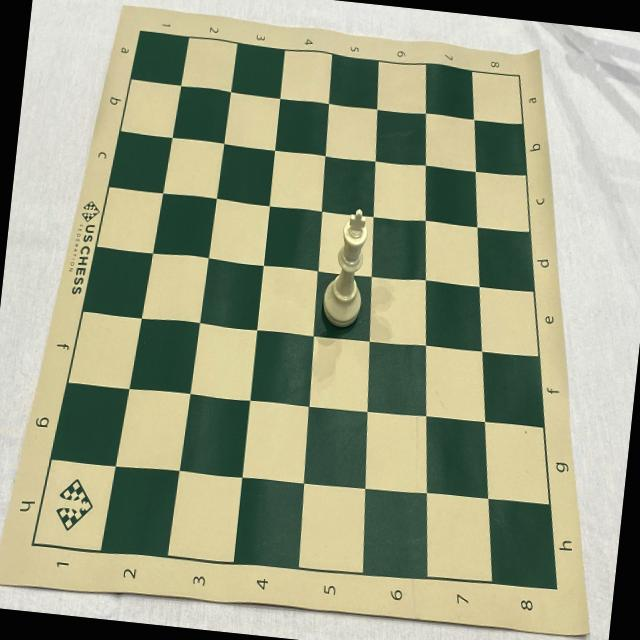white-king: (320, 206, 371, 330)
